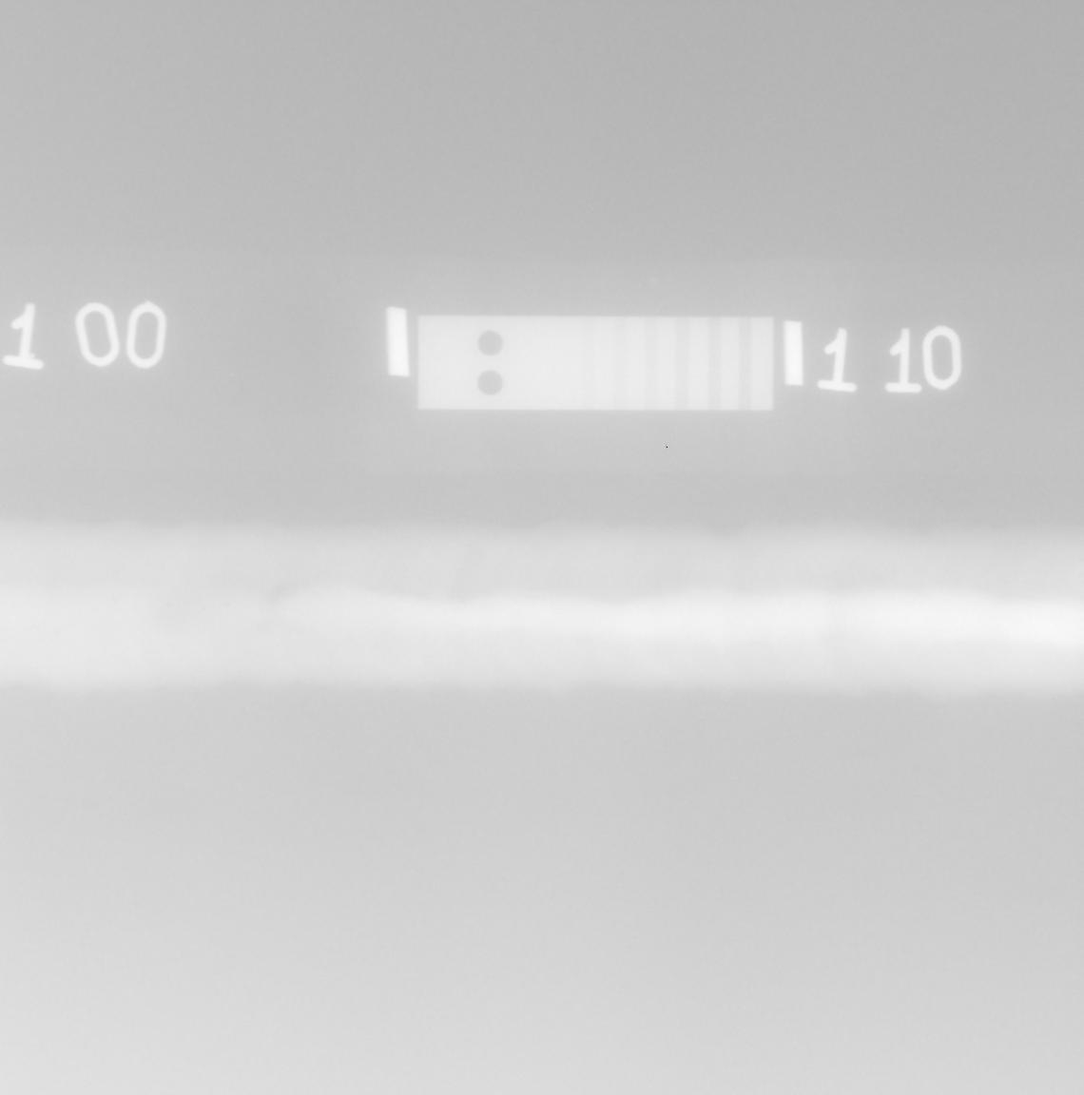Pore/Porosity: (165, 603, 172, 608), (224, 602, 230, 606), (113, 598, 117, 602), (201, 608, 206, 611)
Reference Standard 2: (417, 316, 774, 410)
